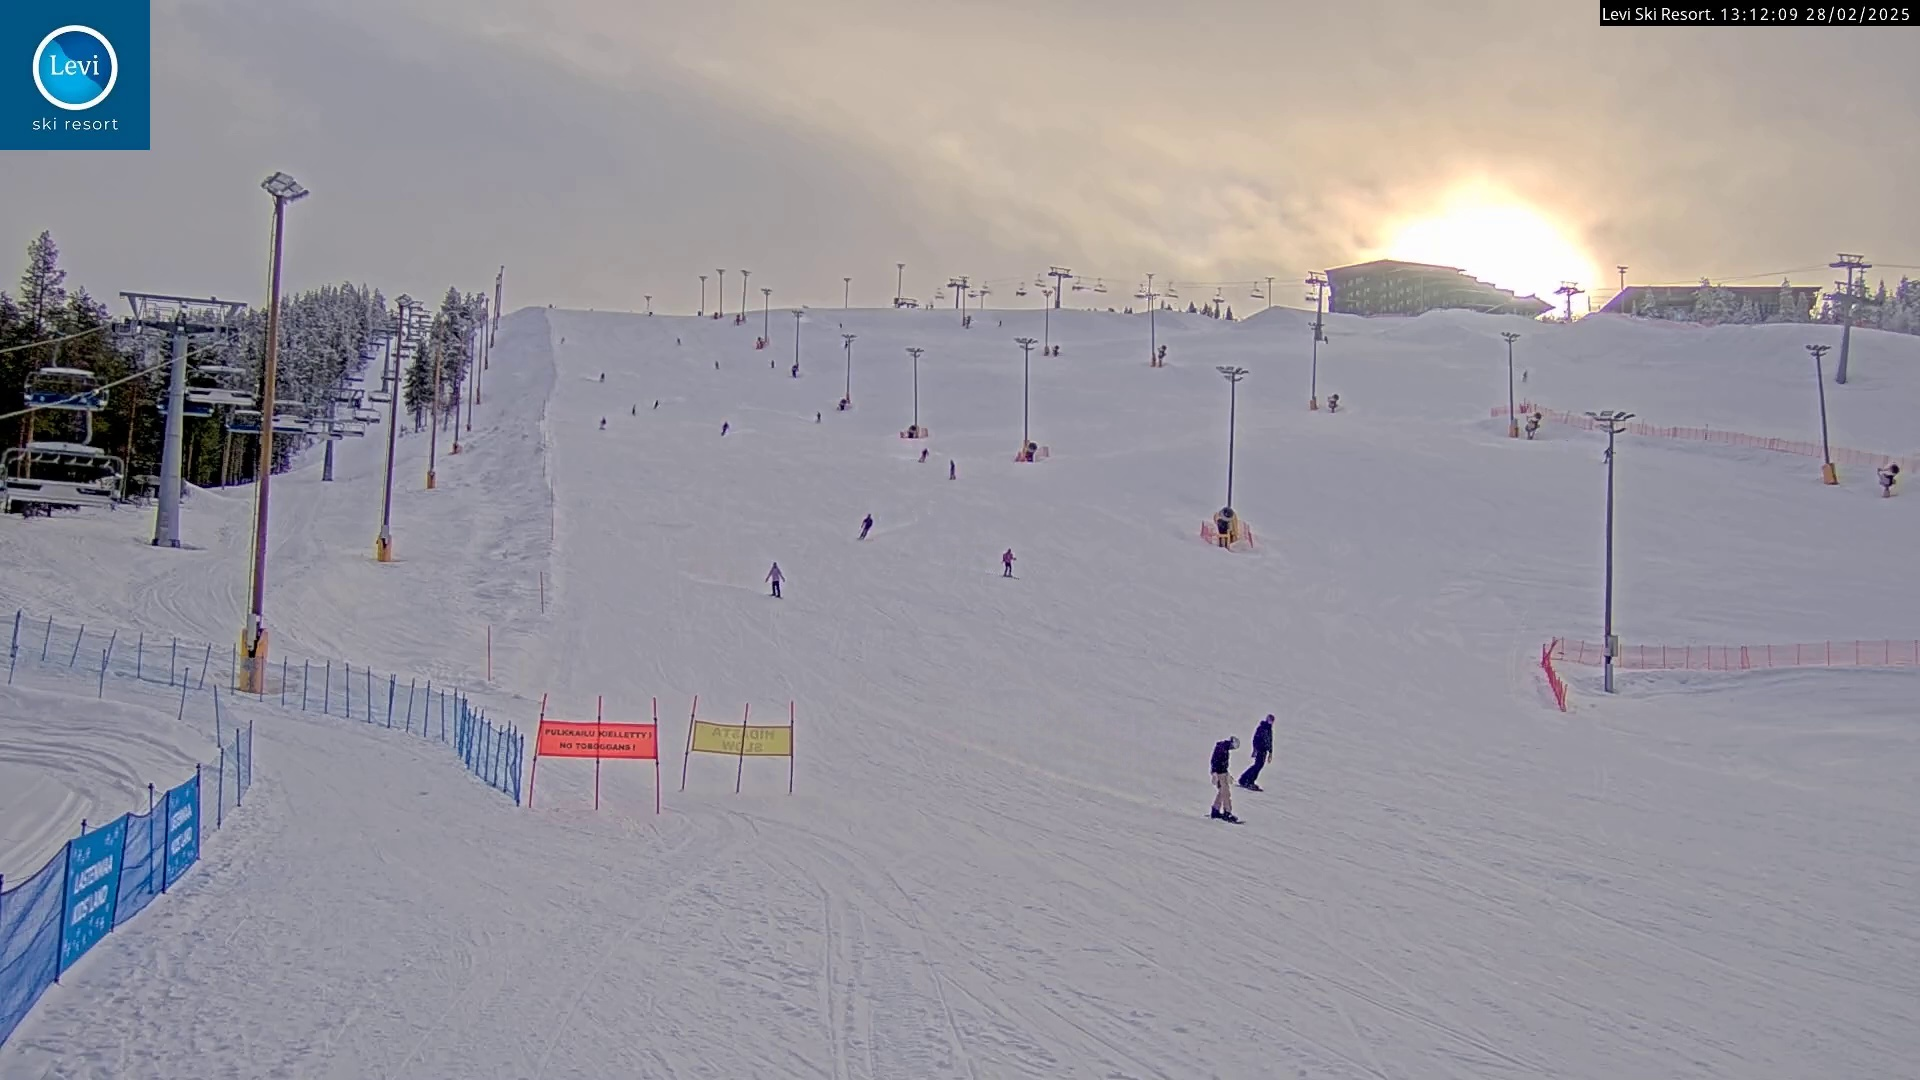snowboarder: (1205, 733, 1247, 823), (1240, 715, 1275, 793)
